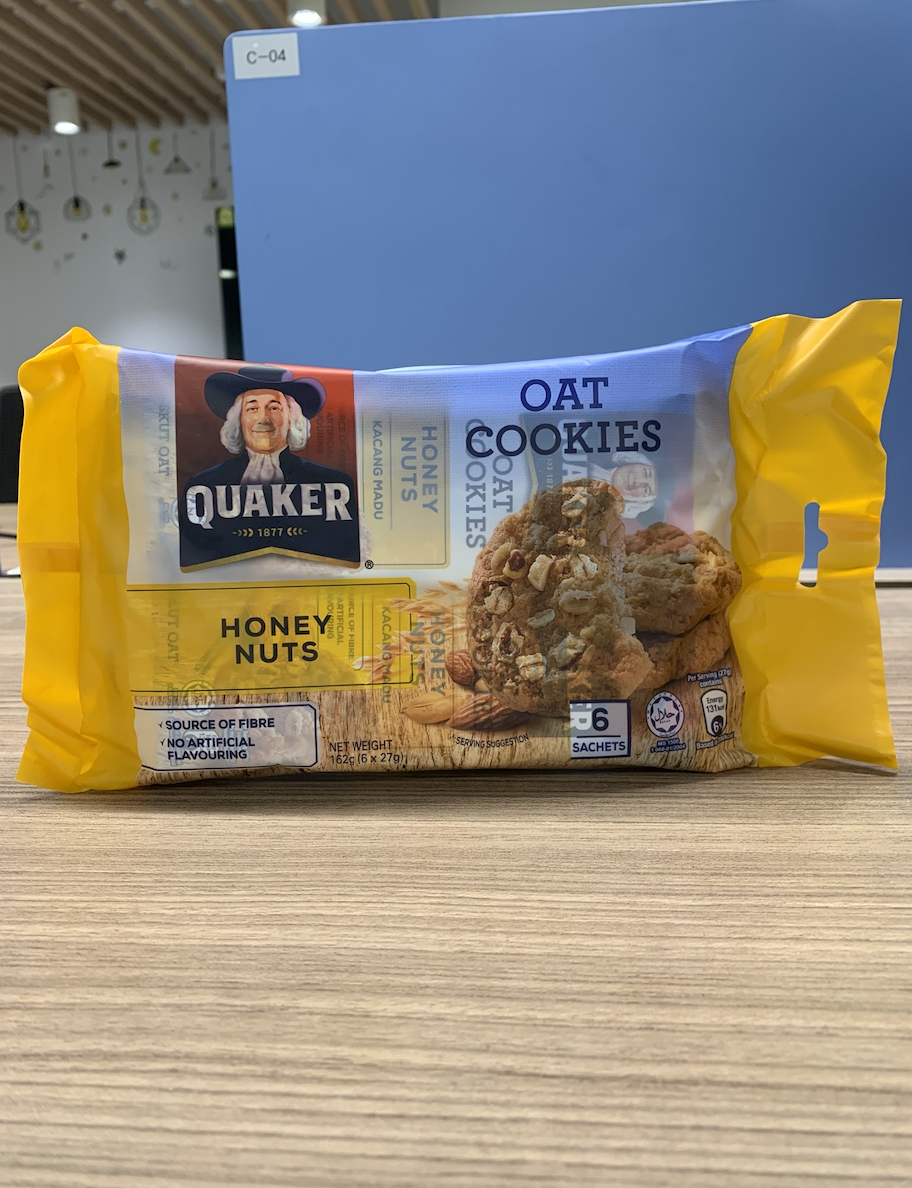cookies_150g: (71, 370, 786, 764)
